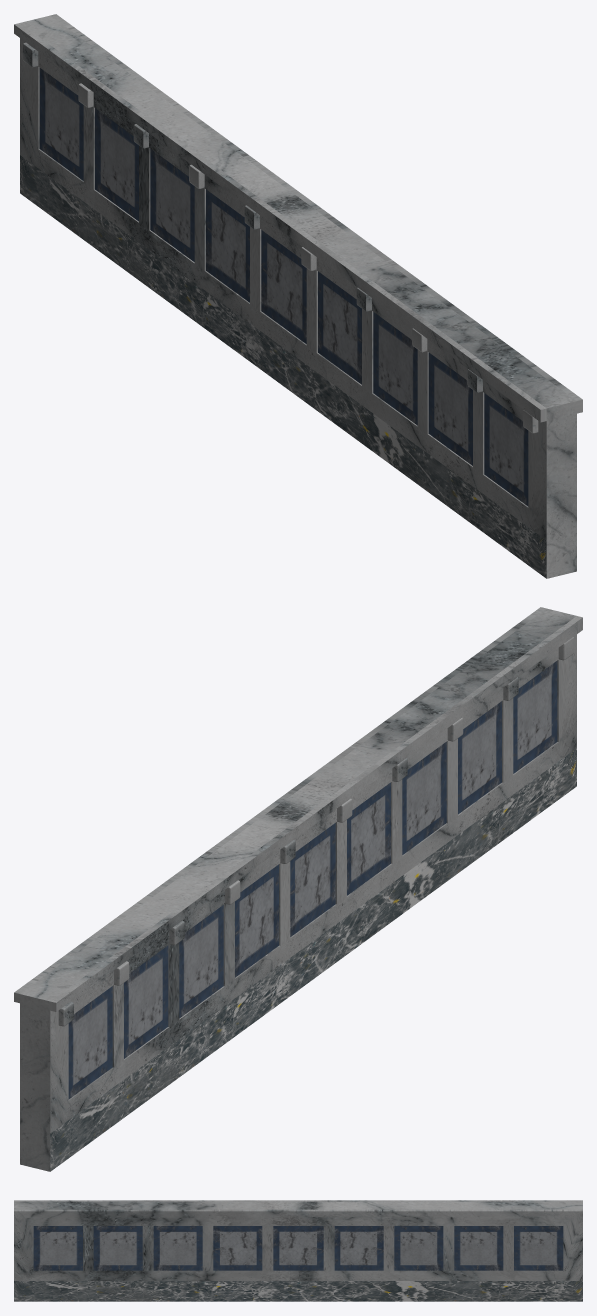
Rendered from SM_WindoSill28B.fbx.
3 views of the same model, one above another, from view 1: azimuth 30°, elevation 25°; view 2: azimuth 150°, elevation 25°; view 3: azimuth 270°, elevation 25° (orthographic). The views are drawn at different scales.
Visible parts, largest first — view 1: SM_WindoSill28B; view 2: SM_WindoSill28B; view 3: SM_WindoSill28B.
Boxes of the visible parts, bbox=[...] form: SM_WindoSill28B: bbox=[14, 14, 582, 578]; SM_WindoSill28B: bbox=[14, 607, 582, 1171]; SM_WindoSill28B: bbox=[14, 1200, 582, 1301].
Size of the model in its own units: 16.76 by 362 by 64.57.
